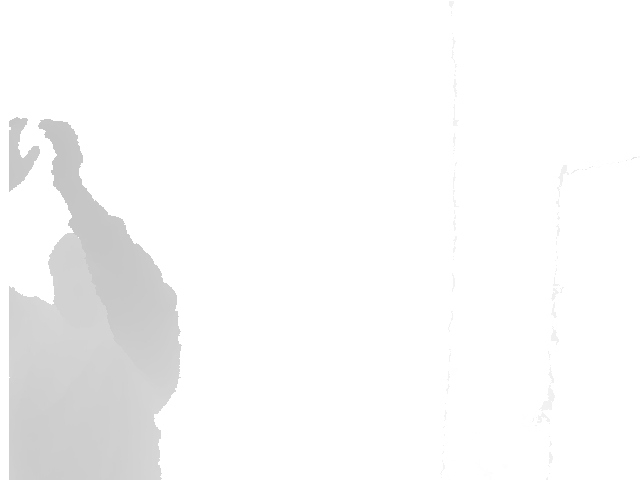hand: (38, 117, 85, 176), (10, 116, 42, 193)
head: (47, 231, 109, 323)
person: (10, 116, 182, 479)
